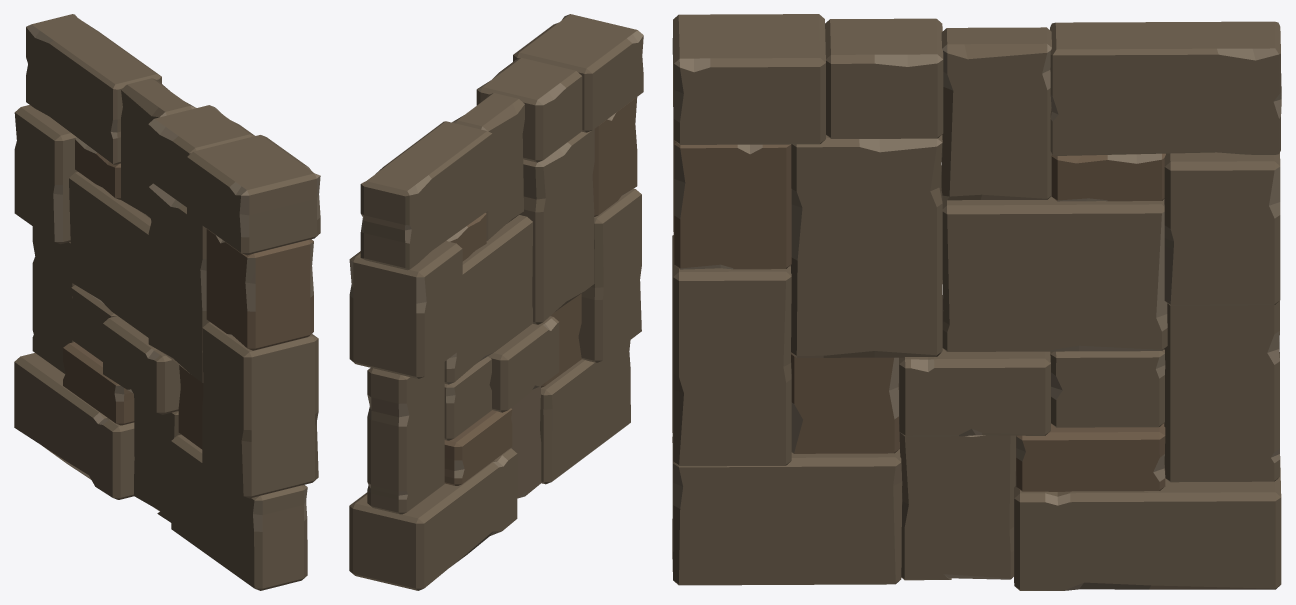
Rendered from entrada_wall_west_1_lev3.glb.
3 renders of one model, left to right at view 1: azimuth 30°, elevation 25°; view 2: azimuth 150°, elevation 25°; view 3: azimuth 270°, elevation 25°, orthographic. The views are drawn at different scales.
Parts seen in each view (by area): view 1: entrada_wall_west_1_lev3; view 2: entrada_wall_west_1_lev3; view 3: entrada_wall_west_1_lev3.
Boxes of the visible parts, left/top/right/bottom form: entrada_wall_west_1_lev3: left=14, top=14, right=320, bottom=590; entrada_wall_west_1_lev3: left=349, top=14, right=643, bottom=590; entrada_wall_west_1_lev3: left=672, top=14, right=1281, bottom=590.
Size of the model in its own units: 1.26 by 5.94 by 6.12.
